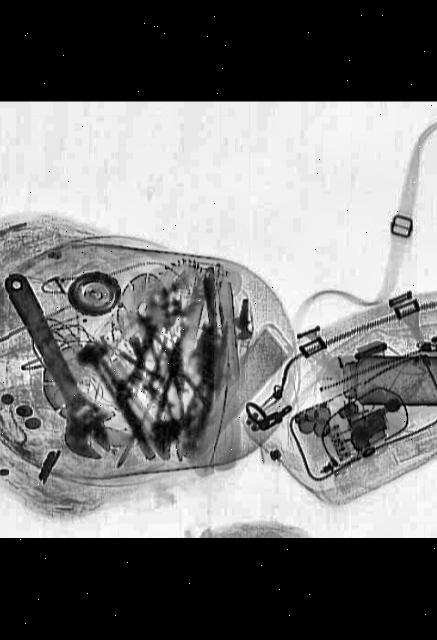Wrench: (0, 265, 131, 466)
